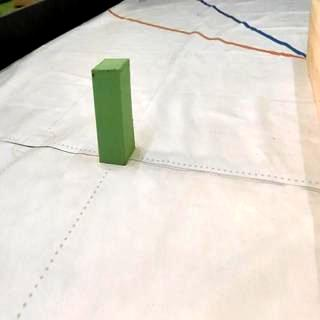greenbox: (92, 56, 135, 165)
